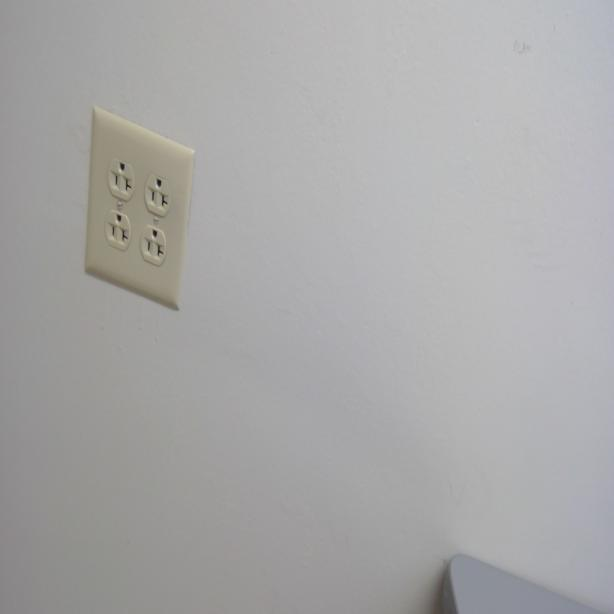typeb: (102, 208, 131, 262), (110, 153, 135, 208), (144, 172, 172, 220), (141, 222, 166, 265)
